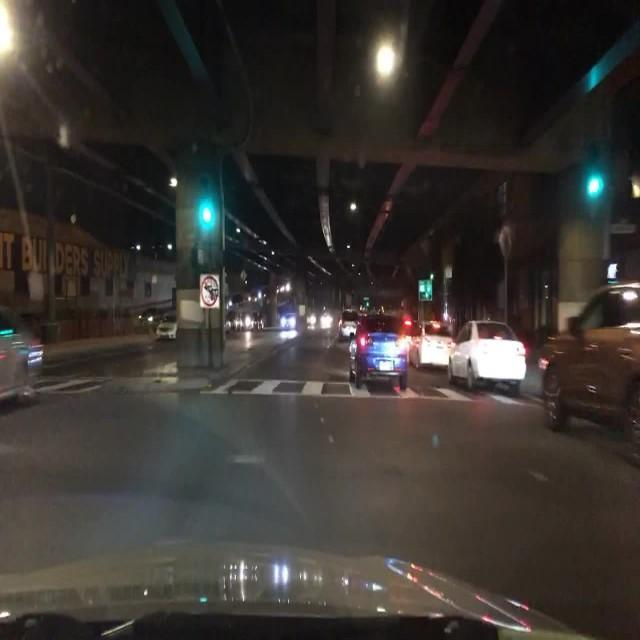normal: (530, 262, 640, 471), (336, 303, 425, 402), (443, 301, 532, 400)
